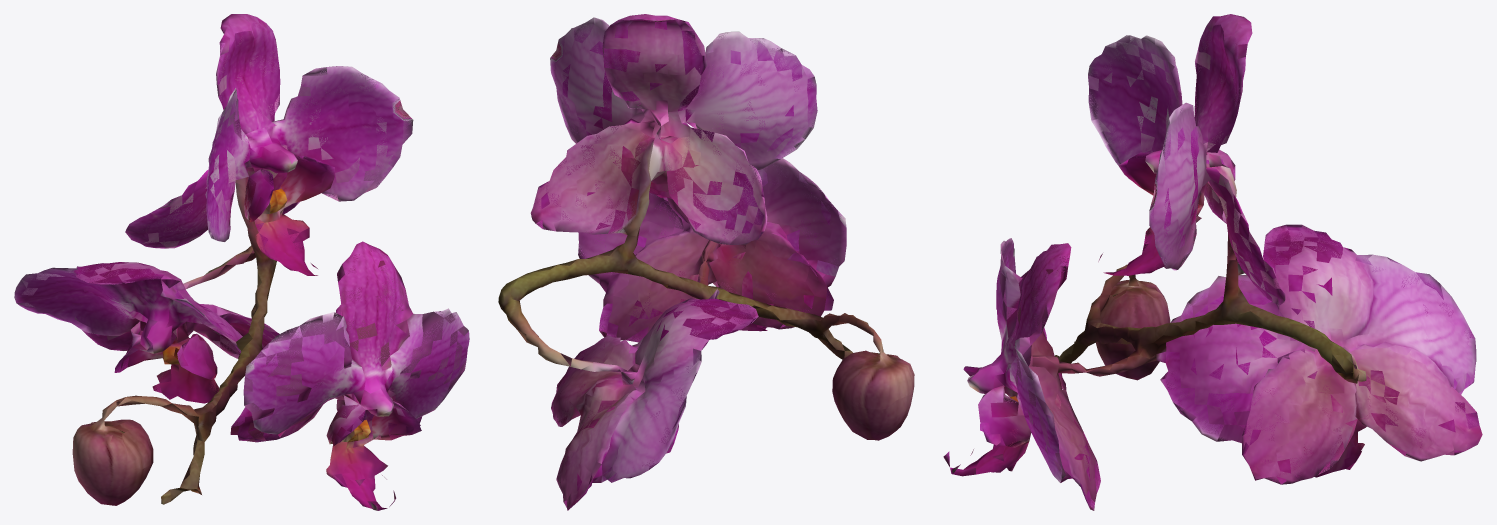
The picture shows the model from 3 angles, left to right: view 1: azimuth 30°, elevation 25°; view 2: azimuth 150°, elevation 25°; view 3: azimuth 270°, elevation 25°; orthographic projection. The views are drawn at different scales.
Visible parts, largest first — view 1: ed453cd6; view 2: ed453cd6; view 3: ed453cd6.
Part boxes in pixels (bbox=[...]): ed453cd6: bbox=[14, 14, 469, 510]; ed453cd6: bbox=[498, 14, 914, 510]; ed453cd6: bbox=[943, 14, 1482, 510].
Bounding box in the file's own units: 0.1493 × 0.1659 × 0.1771.
Materials: 1 (1 with a texture image).
